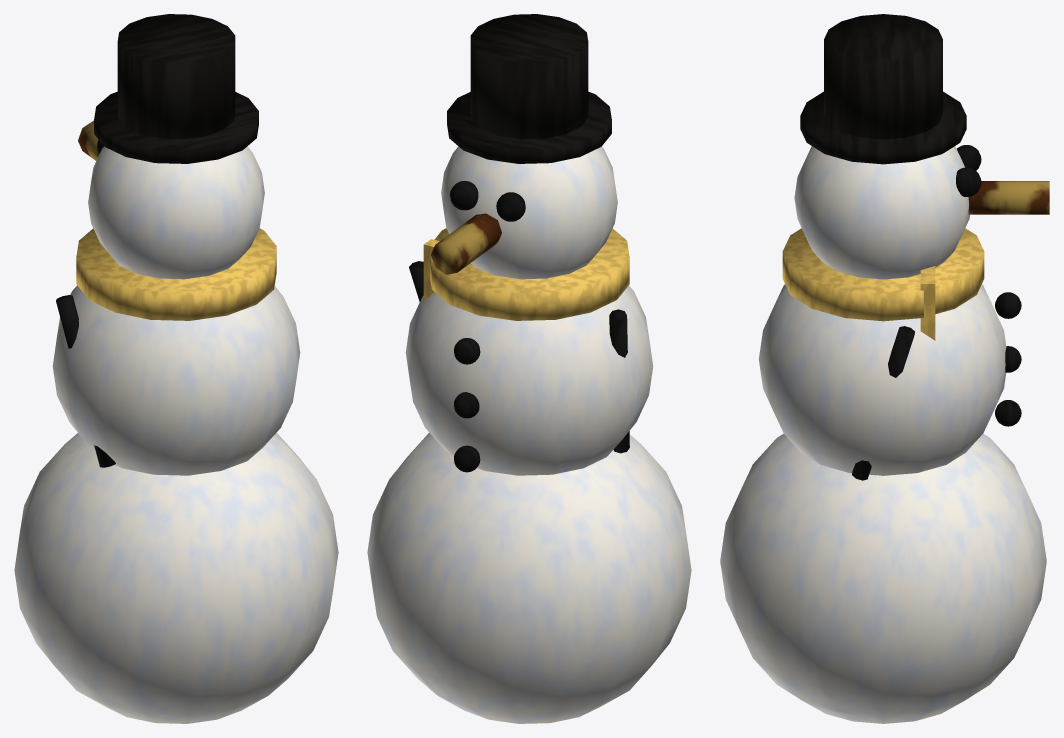
The model's file is snowman.glb.
The picture shows the model from 3 angles, left to right: view 1: azimuth 30°, elevation 25°; view 2: azimuth 150°, elevation 25°; view 3: azimuth 270°, elevation 25°; orthographic projection.
Parts seen in each view (by area): view 1: snowman; view 2: snowman; view 3: snowman.
Part boxes in pixels (x1,y1,x2,y2): snowman: [14, 14, 338, 723]; snowman: [367, 14, 691, 723]; snowman: [720, 14, 1049, 723].
Size of the model in its own units: 1.1 by 2.49 by 1.11.
Materials: 5 (5 with a texture image).
